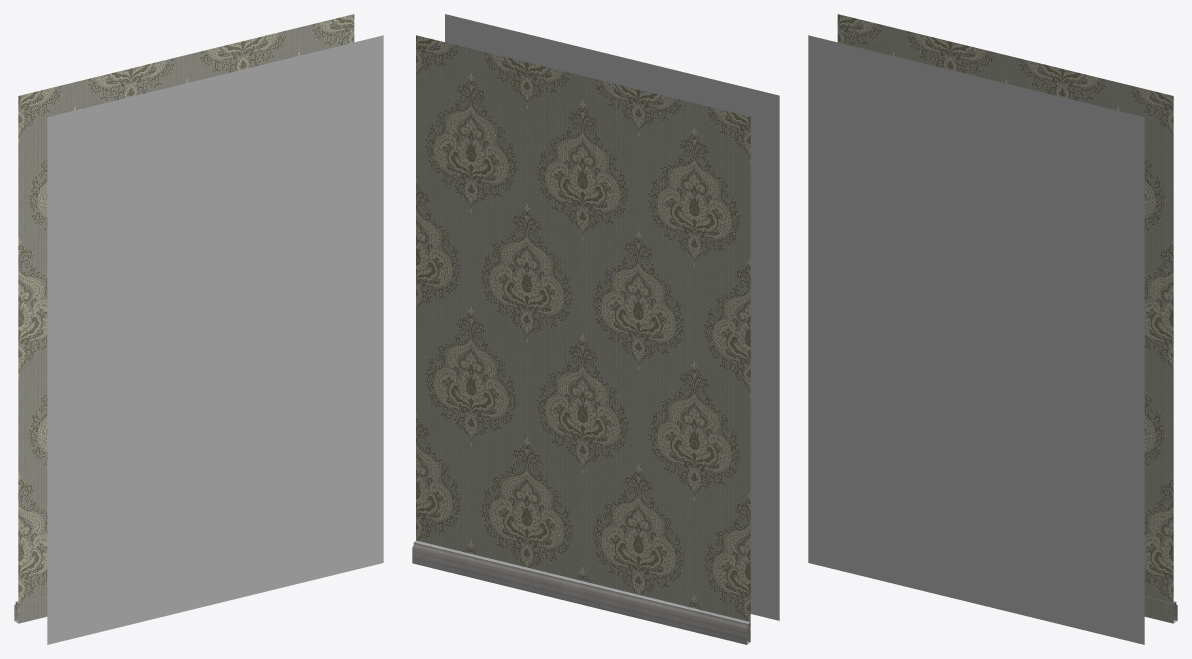
Rendered from House_07_Wall_02.fbx.
The picture shows the model from 3 angles, left to right: view 1: azimuth 30°, elevation 25°; view 2: azimuth 150°, elevation 25°; view 3: azimuth 330°, elevation 25°; orthographic projection.
Parts seen in each view (by area): view 1: House_07_Wall_02; view 2: House_07_Wall_02; view 3: House_07_Wall_02.
Boxes of the visible parts, x1,y1,x2,y2 form: House_07_Wall_02: [14, 14, 383, 644]; House_07_Wall_02: [412, 14, 779, 644]; House_07_Wall_02: [808, 14, 1177, 644].
Bounding box in the file's own units: 200 × 300 × 33.93.
